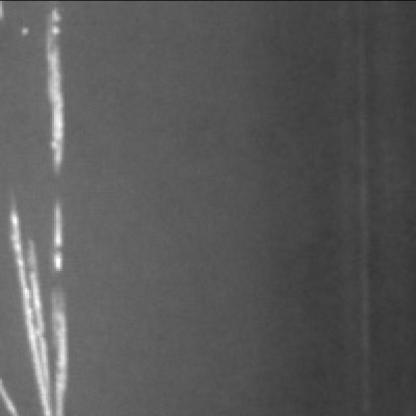scratches: (0, 181, 69, 414), (31, 2, 69, 177)
